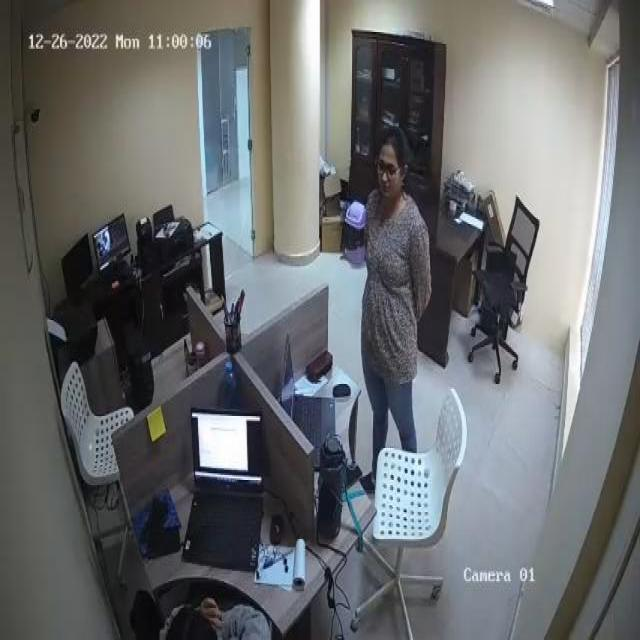bare_hand: (193, 583, 230, 638)
